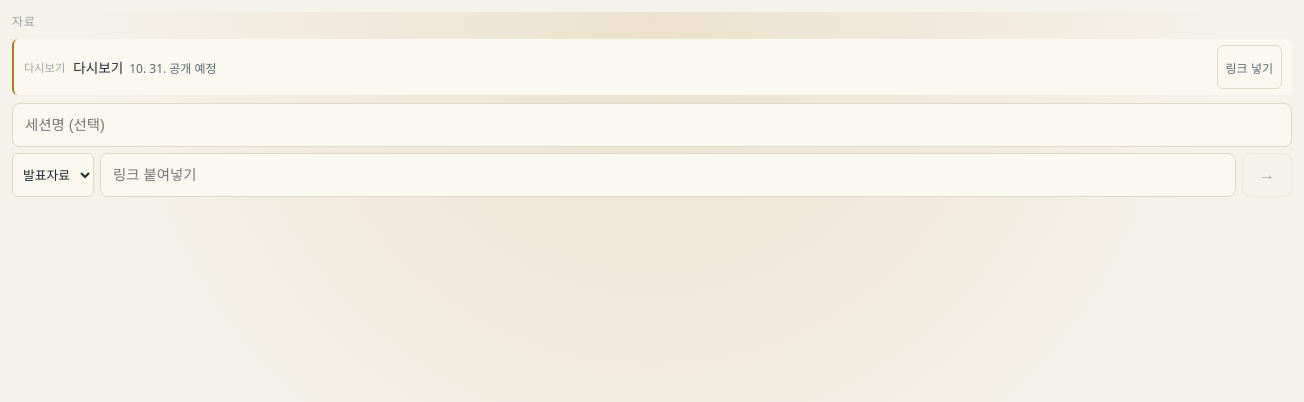
Scenario: EventMaterials › fills an expected material with a link via PATCH
The width and height of the screenshot is (1304, 402).
Click the button "링크 넣기" at {"x": 1249, "y": 67}, box [1216,45,1282,89]
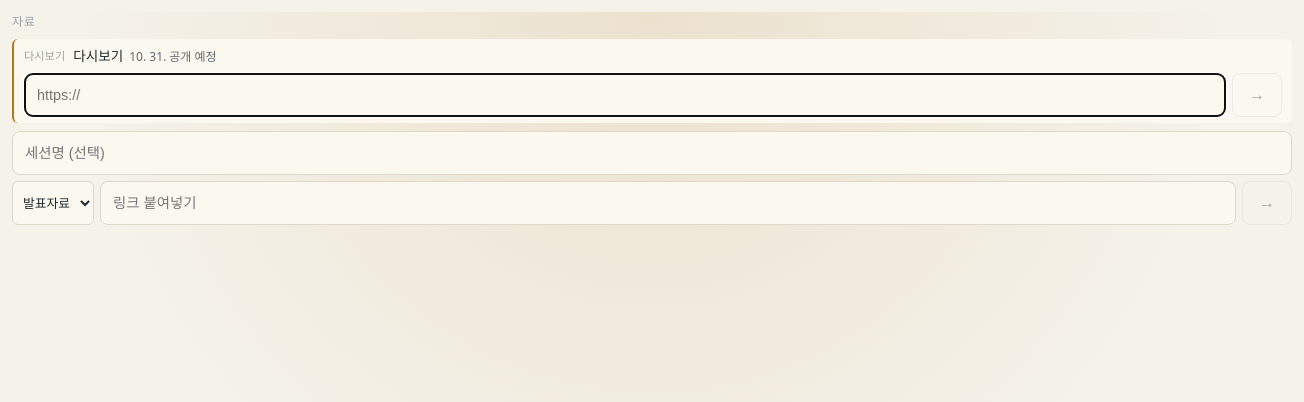
Type "https://youtu.be/vod" into the field named "자료 링크" at {"x": 625, "y": 95}, box [24,73,1226,117]
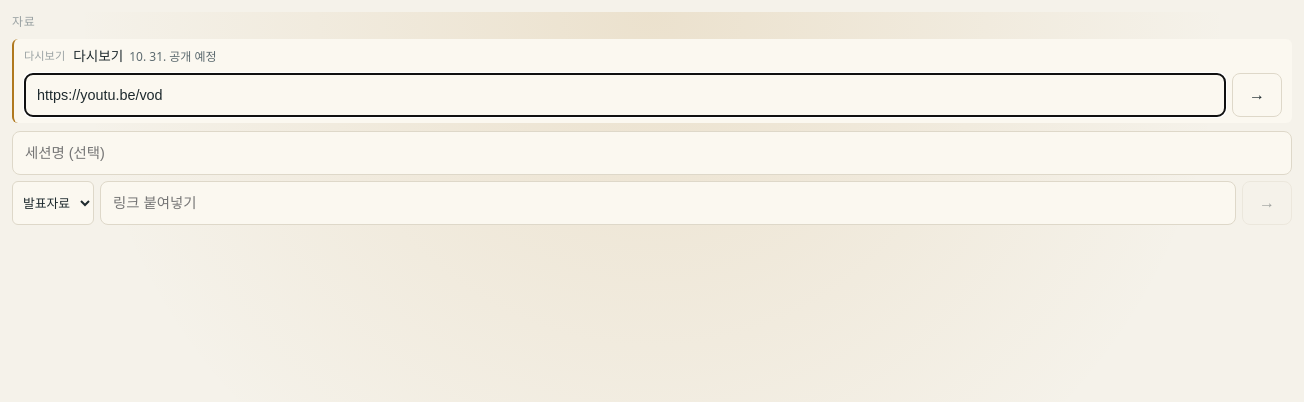
Click the button named "링크 저장" at {"x": 1257, "y": 95}, box [1232,73,1282,117]
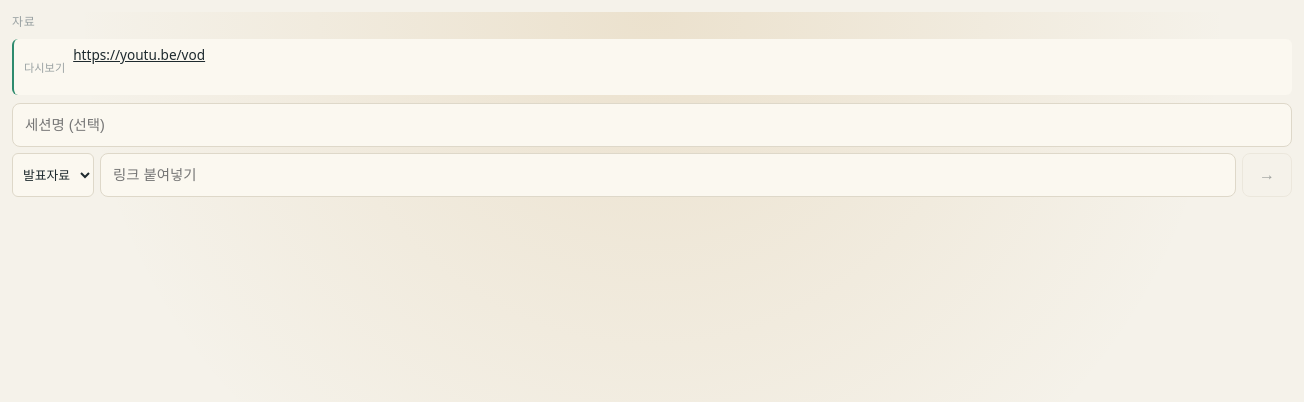
Expected: the link "https://youtu.be/vod" is shown, [73,45,205,64]
